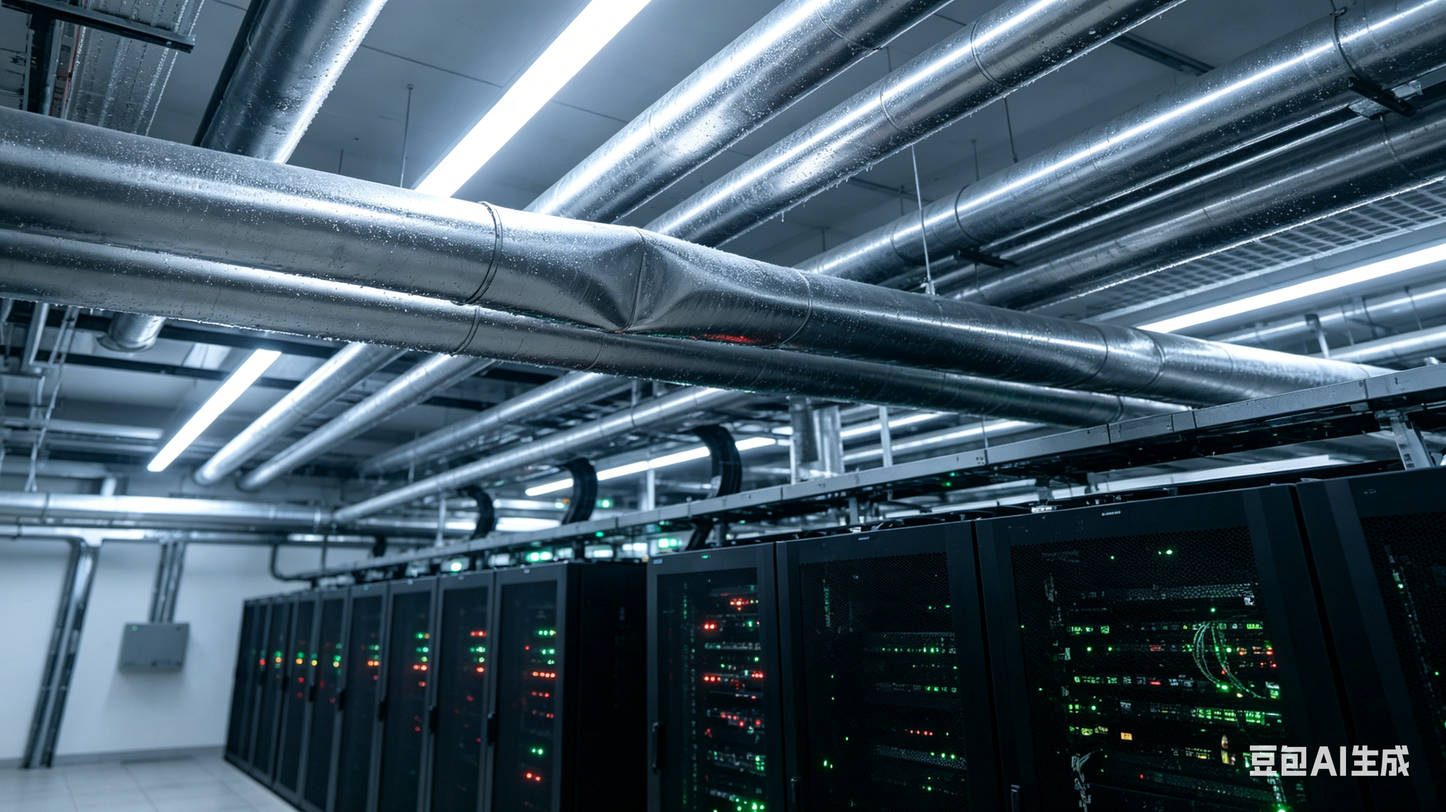Leakage: (580, 230, 723, 350)
